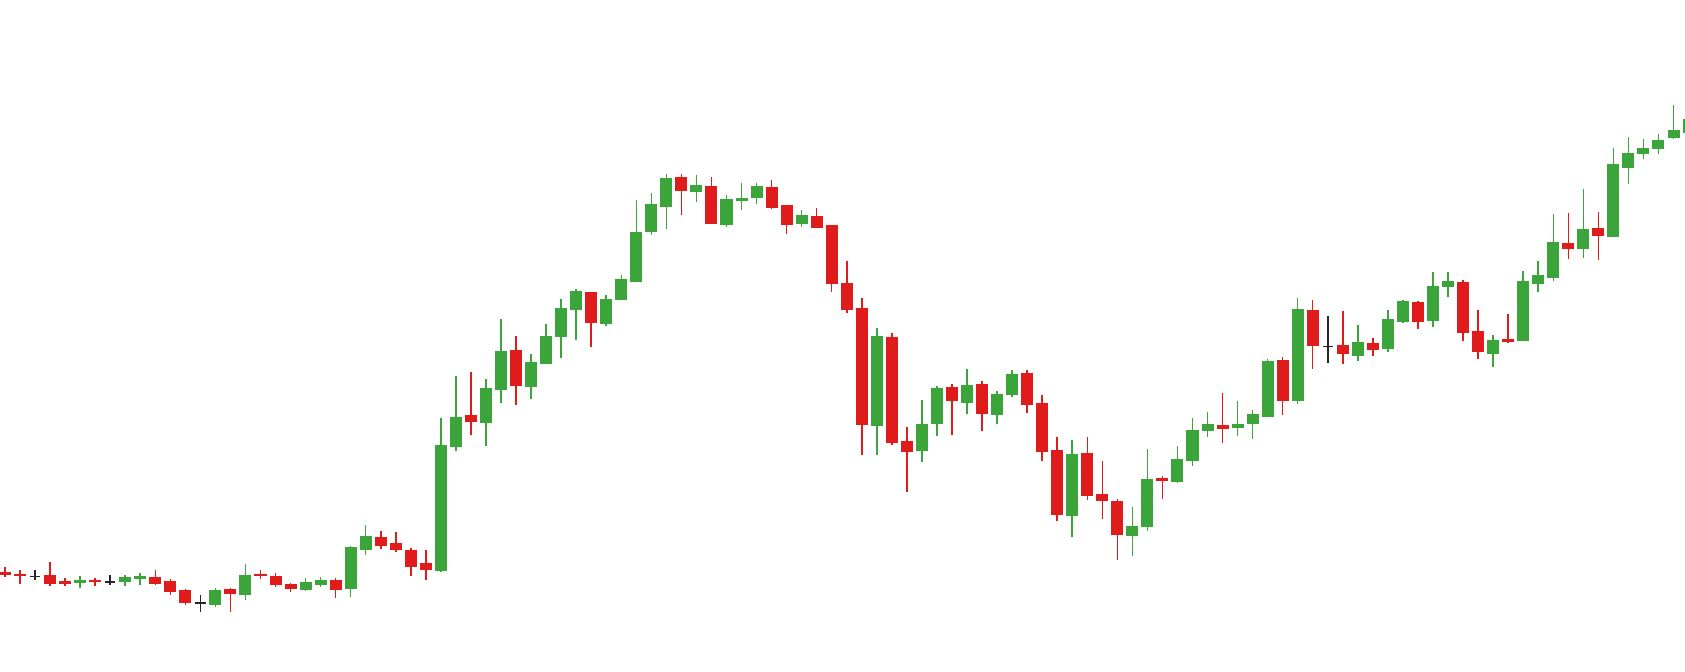buy: (1336, 313, 1503, 370), (1053, 461, 1139, 563)
